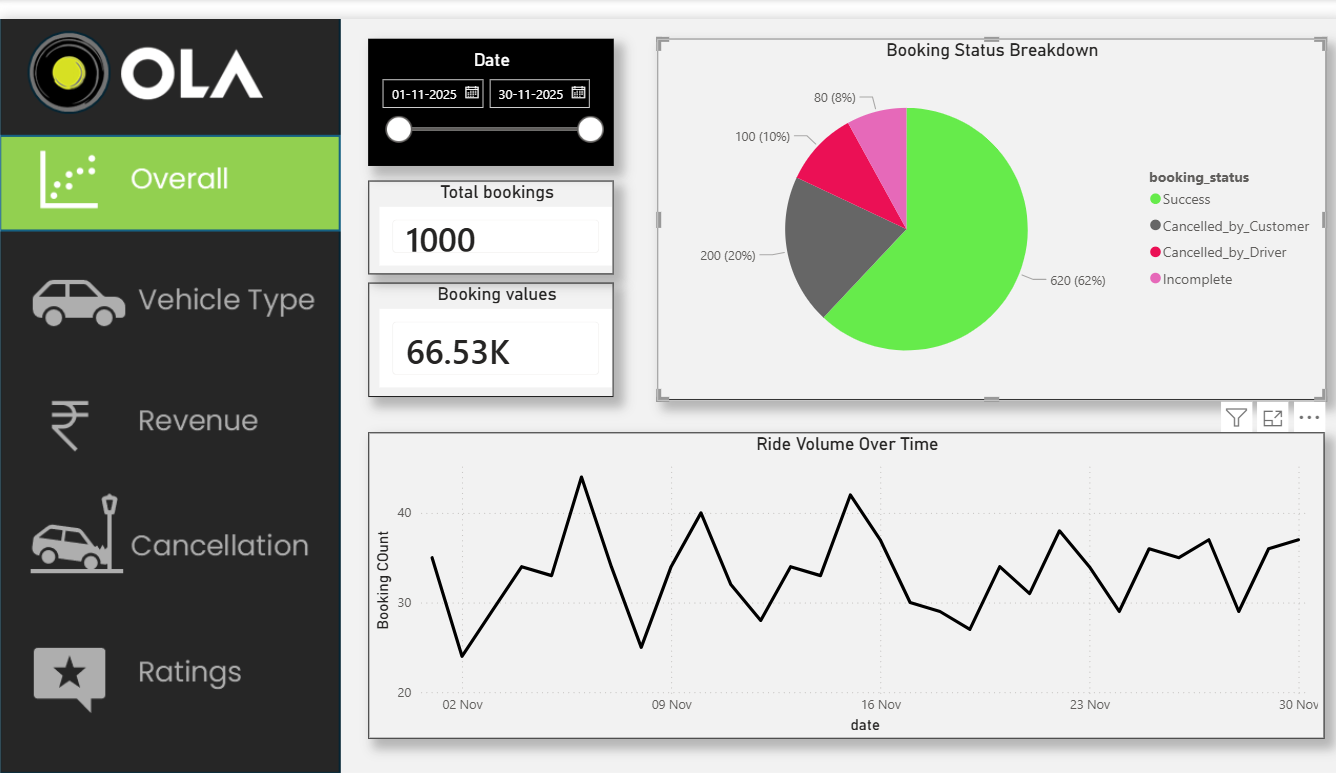

What the dashboard file says about the page in this screenshot:
{"tool":"powerbi","page":{"name":"overall","canvas":[1280,720],"ordinal":0},"visuals":[{"type":"actionButton","box":[0,220.6,322.4,87.5],"z":0},{"type":"actionButton","box":[0,351.1,322.4,87.5],"z":1000},{"type":"actionButton","box":[1.3,451.6,322.4,87.5],"z":2000},{"type":"actionButton","box":[0,578.3,322.4,87.5],"z":3000},{"type":"lineChart","title":"Ride Volume Over Time","fields":{"Y":["CountNonNull(bengaluru_ride_data_sql_ready_1000.booking_id)"],"Category":["bengaluru_ride_data_sql_ready_1000.date"]},"box":[350,393.1,909.7,291.7],"z":4000},{"type":"pieChart","title":"Booking Status Breakdown","fields":{"Y":["CountNonNull(bengaluru_ride_data_sql_ready_1000.booking_id)"],"Category":["bengaluru_ride_data_sql_ready_1000.booking_status"]},"box":[625,19.4,636.1,343.1],"z":5000},{"type":"slicer","title":"Date","fields":{"Values":["bengaluru_ride_data_sql_ready_1000.date"]},"box":[350,19.4,233.3,120.8],"z":6000},{"type":"cardVisual","title":"Total bookings","fields":{"Data":["CountNonNull(bengaluru_ride_data_sql_ready_1000.booking_id)"]},"box":[350,154.2,233.3,88.9],"z":7000},{"type":"cardVisual","title":"Booking values","fields":{"Data":["Sum(bengaluru_ride_data_sql_ready_1000.booking_value)"]},"box":[350,251.4,233.3,108.3],"z":8000}]}

Visuals, with their boxes on the page's 1280x720 design canvas (x1, y1, x2, y2). These are canvas units, not pixel positions in the 1336x774 screenshot, which may show the page scaled, cropped or inside an application window:
actionButton: 0:221:322:308
actionButton: 0:351:322:439
actionButton: 1:452:324:539
actionButton: 0:578:322:666
"Ride Volume Over Time" lineChart: 350:393:1260:685
"Booking Status Breakdown" pieChart: 625:19:1261:362
"Date" slicer: 350:19:583:140
"Total bookings" cardVisual: 350:154:583:243
"Booking values" cardVisual: 350:251:583:360
